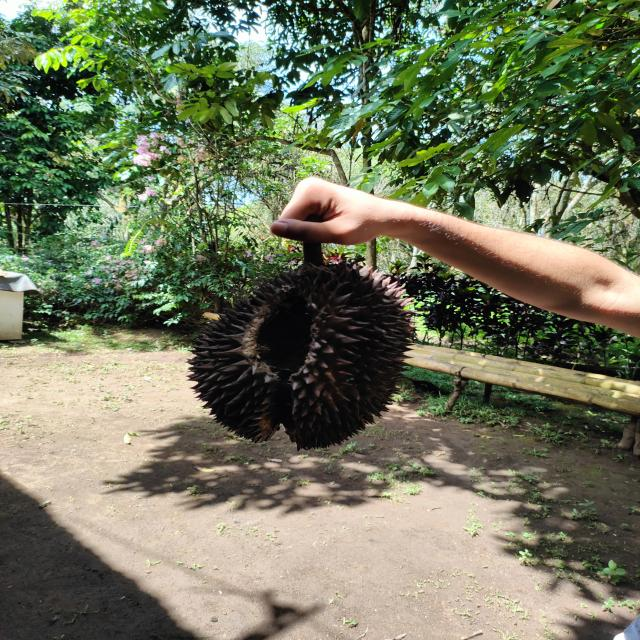defective: (179, 255, 421, 453)
